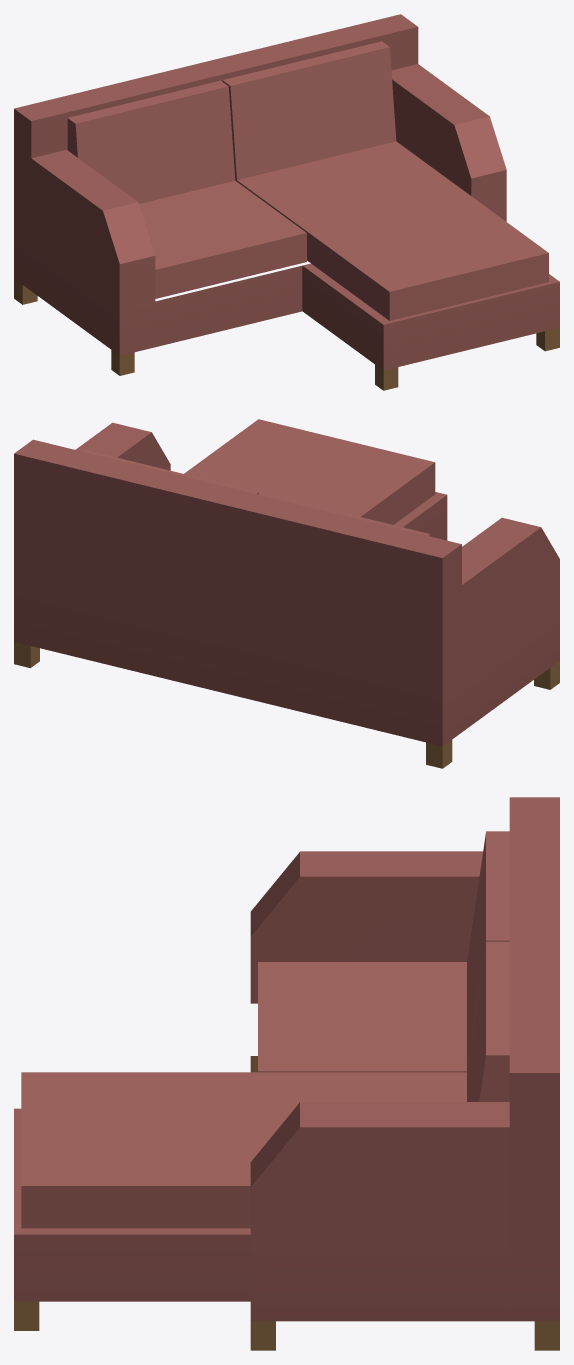
File: sofa.corner.rose.glb
3 views of the same model, one above another, from view 1: azimuth 30°, elevation 25°; view 2: azimuth 150°, elevation 25°; view 3: azimuth 270°, elevation 25° (orthographic). The views are drawn at different scales.
Parts seen in each view (by area): view 1: sofa_corner_rose; view 2: sofa_corner_rose; view 3: sofa_corner_rose.
Part boxes in pixels (left/top/right/bottom): sofa_corner_rose: left=14, top=14, right=559, bottom=390; sofa_corner_rose: left=14, top=419, right=559, bottom=768; sofa_corner_rose: left=14, top=797, right=559, bottom=1350.
Size of what is drawn, in the model's own units: 1.81 by 0.85 by 1.51.
